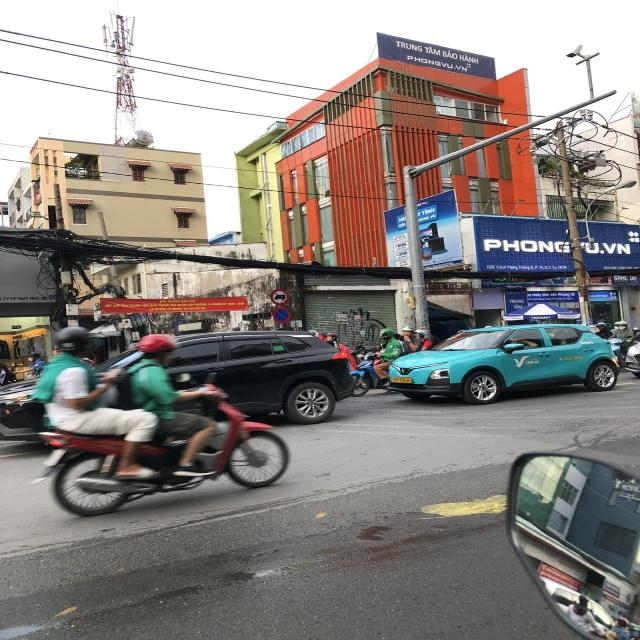Bien bao cam do xe: (270, 306, 293, 324)
Bien bao cam xe oto tai: (269, 287, 290, 306)
